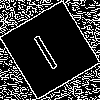I: (25, 25, 61, 72)
